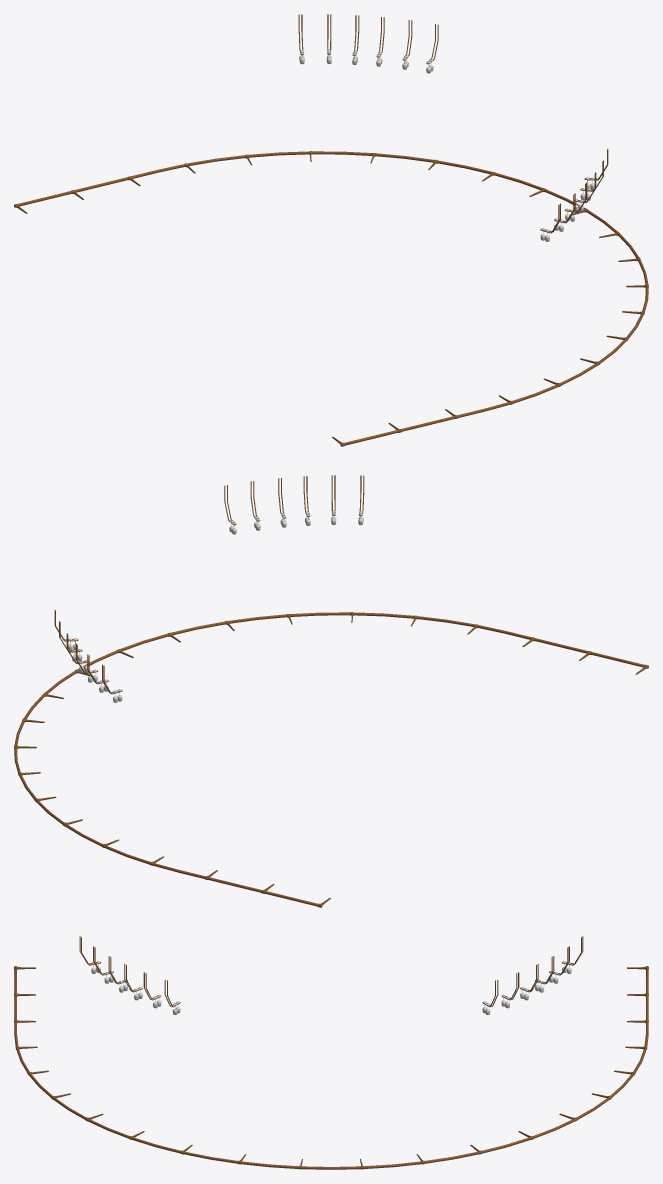
The model's file is bar_footlest.fbx.
3 views of the same model, one above another, from view 1: azimuth 30°, elevation 25°; view 2: azimuth 150°, elevation 25°; view 3: azimuth 270°, elevation 25° (orthographic). The views are drawn at different scales.
Visible parts, largest first — view 1: bar_footlest; view 2: bar_footlest; view 3: bar_footlest.
Boxes of the visible parts, left/top/right/bottom form: bar_footlest: left=14, top=14, right=648, bottom=446; bar_footlest: left=14, top=475, right=648, bottom=907; bar_footlest: left=14, top=936, right=648, bottom=1169.
Size of the model in its own units: 673 by 235 by 895.
